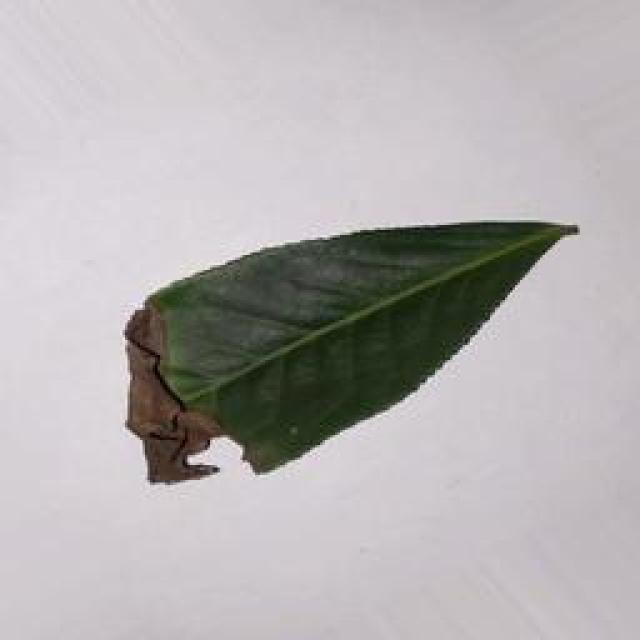Brown Blight: (108, 203, 591, 488)
